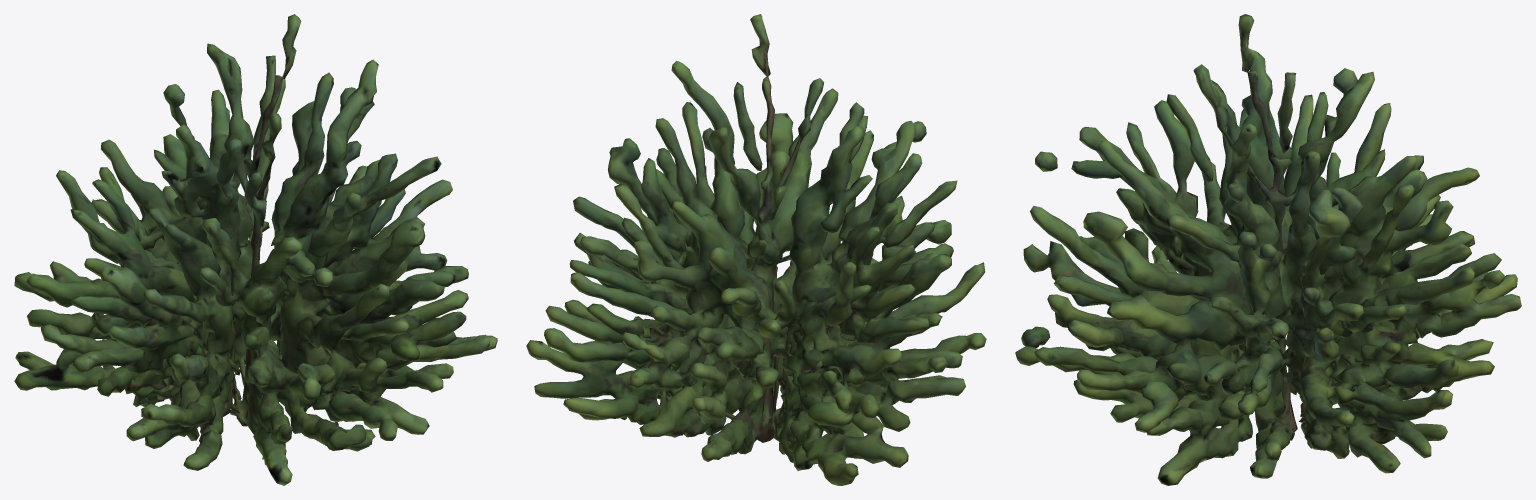
The model's file is AI_MediterraneanShrub.fbx.
3 renders of one model, left to right at view 1: azimuth 30°, elevation 25°; view 2: azimuth 150°, elevation 25°; view 3: azimuth 270°, elevation 25°, orthographic. The views are drawn at different scales.
Visible parts, largest first — view 1: Mesh1.0; view 2: Mesh1.0; view 3: Mesh1.0.
Part boxes in pixels (x1,y1,x2,y2): Mesh1.0: (14,14,497,485); Mesh1.0: (526,14,986,485); Mesh1.0: (1015,14,1521,485).
Bounding box in the file's own units: 194 × 189 × 201.
Materials: 1 (1 with a texture image).
